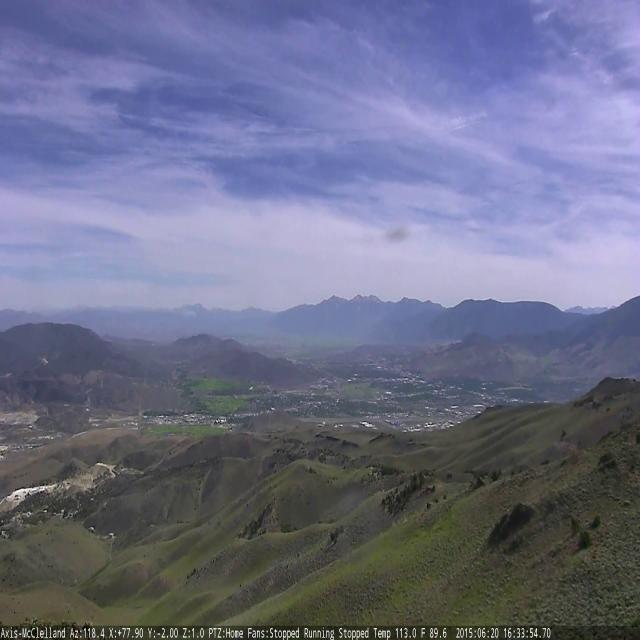smoke: (182, 306, 196, 317)
